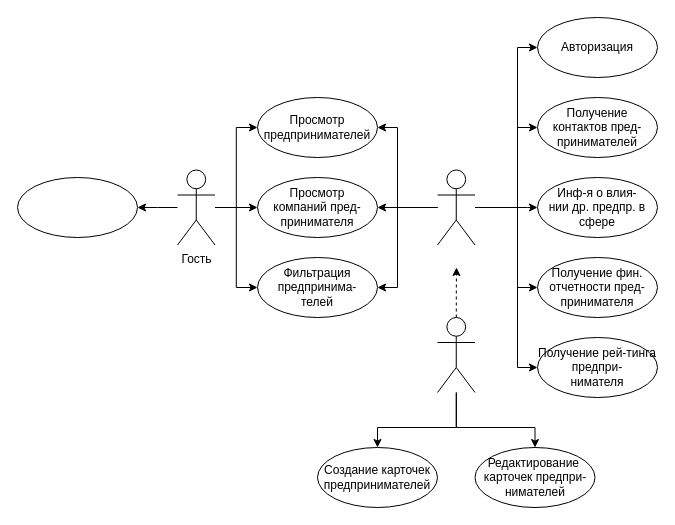
This 675x525 diagram has some shape labels left out. Each missing label, with the centre of its shape:
"Администратор" goes at point 455,354.
"Вход без авторизации" goes at point 77,207.
"Предприниматель" goes at point 455,207.
